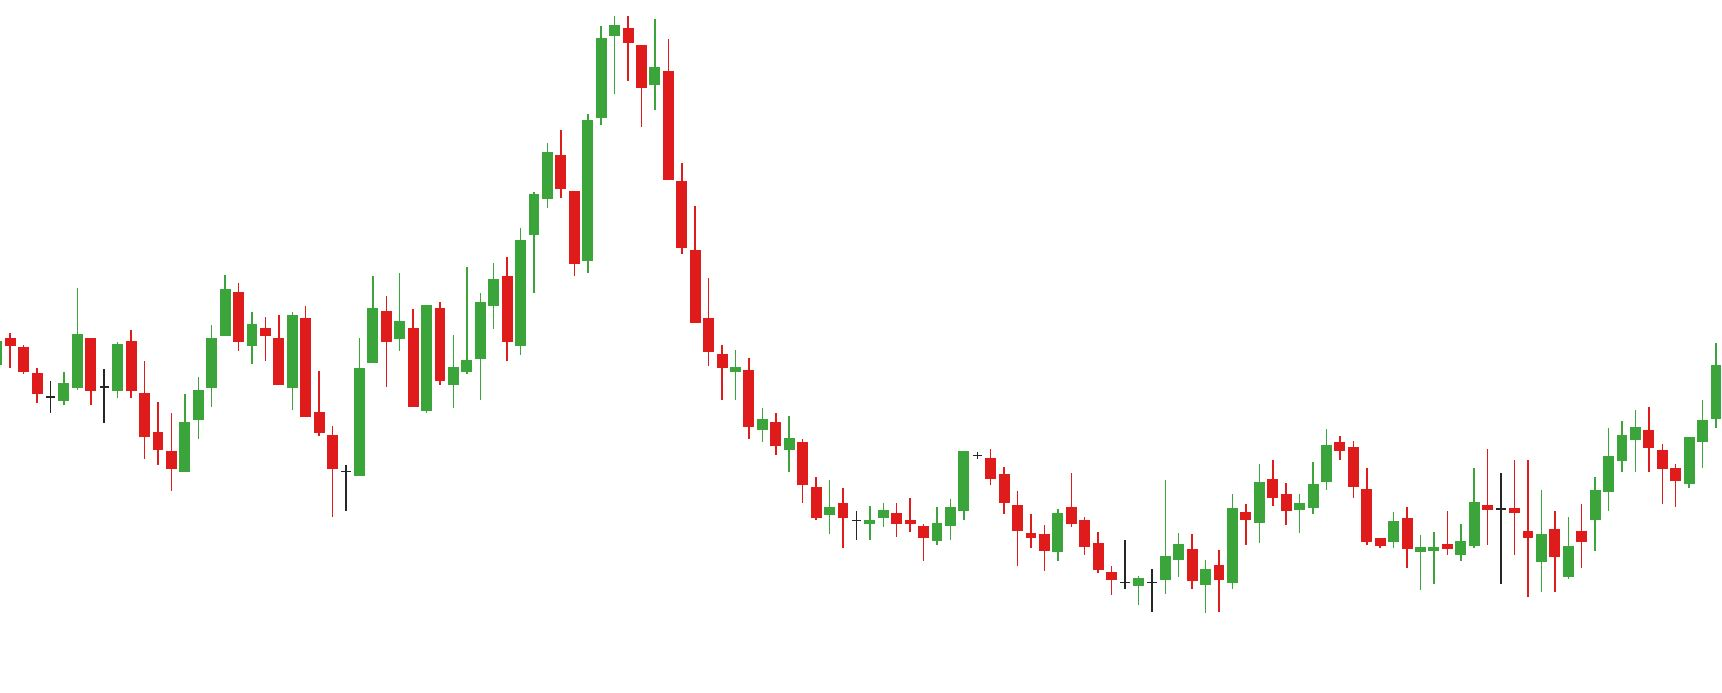buy: (165, 337, 368, 521)
sell: (1264, 426, 1360, 502)
